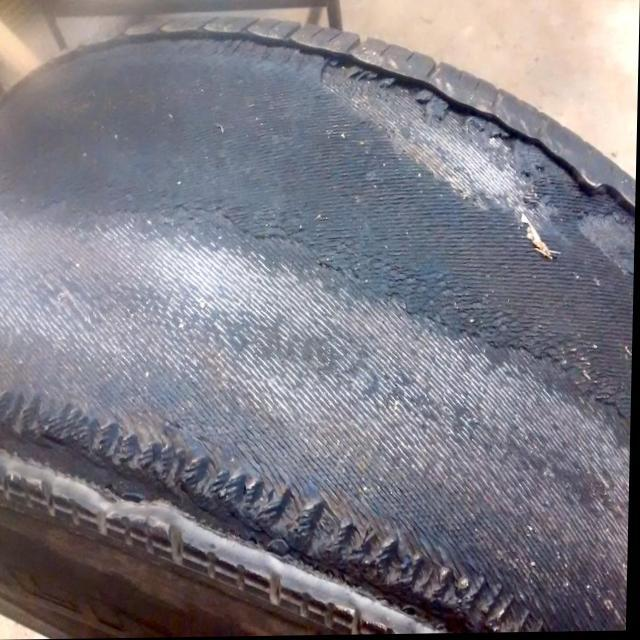Flat spots: (6, 49, 640, 613)
